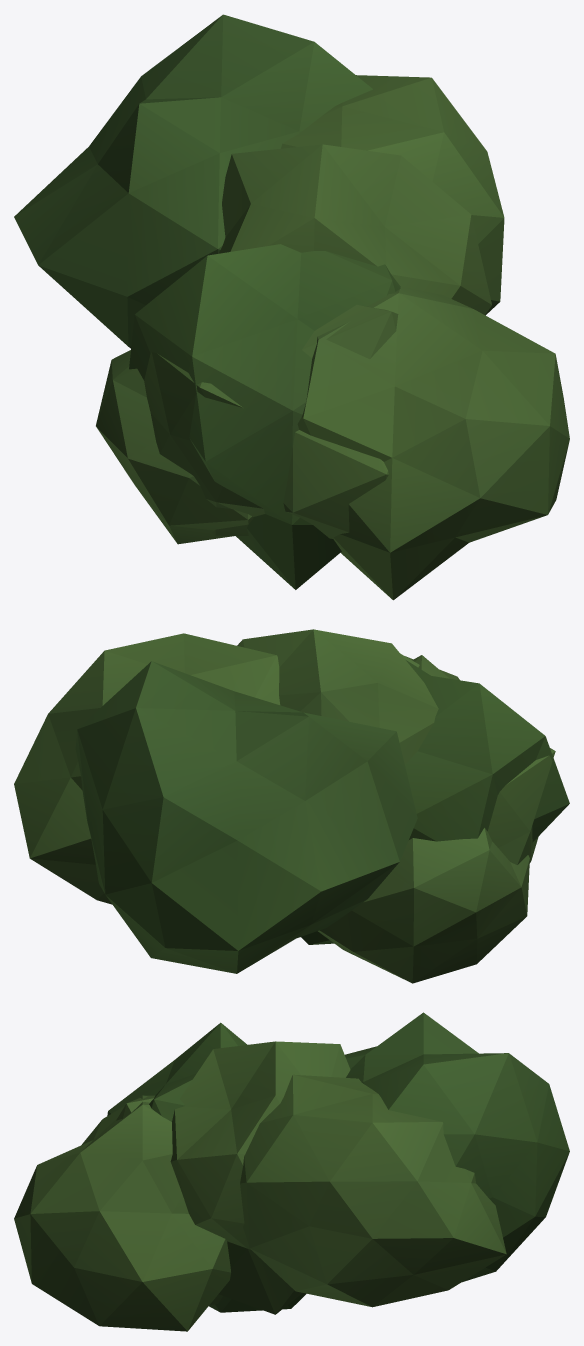
File: veg_buske_1.glb
The picture shows the model from 3 angles, top to bottom: view 1: azimuth 30°, elevation 25°; view 2: azimuth 150°, elevation 25°; view 3: azimuth 270°, elevation 25°; orthographic projection. The views are drawn at different scales.
Visible parts, largest first — view 1: geometry_0; view 2: geometry_0; view 3: geometry_0.
Boxes of the visible parts, x1,y1,x2,y2 form: geometry_0: (14, 14, 569, 600); geometry_0: (14, 629, 569, 983); geometry_0: (14, 1012, 569, 1331).
Size of the model in its own units: 1.23 by 1 by 1.73.
